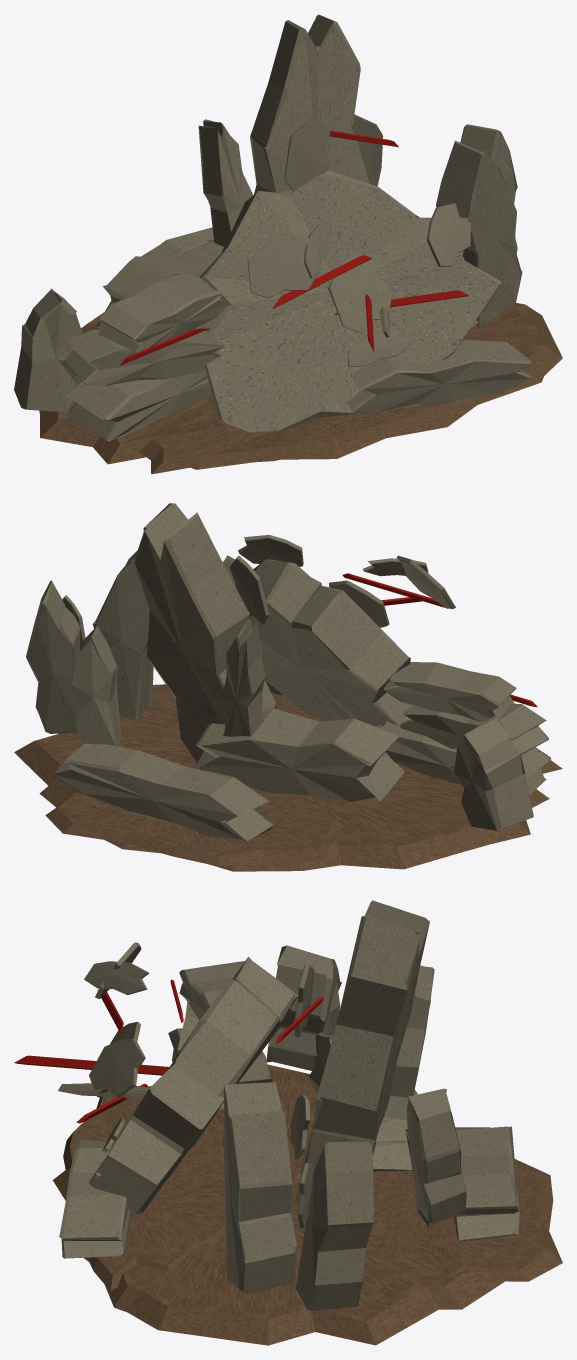
Rendered from SM_GIA_BloodAxeCairnTarget_A1_A01_LOD1.fbx.
3 views of the same model, one above another, from view 1: azimuth 30°, elevation 25°; view 2: azimuth 150°, elevation 25°; view 3: azimuth 270°, elevation 25° (orthographic). The views are drawn at different scales.
Parts seen in each view (by area): view 1: LOD1_Stone_DominantDiagonalFrontSlab, LOD1_Stone_TallRearOathSlab, LOD1_FrontBrokenMudLip, LOD1_IrregularMudAshTerrainContact, LOD1_Stone_FrontBrokenFootStone, LOD1_Stone_RightUprightSupportStone, LOD1_Stone_LeftBundledStackTopSlab, LOD1_Stone_LeftBundledStackLowSlab, LOD1_Stone_LeftBackBrokenShard, LOD1_Stone_LeftBundledStackMidSlab, LOD1_Stone_RearNeedleShardLeft, LOD1_Stone_RearLowCounterweight (+11 smaller); view 2: LOD1_IrregularMudAshTerrainContact, LOD1_Stone_TallRearOathSlab, LOD1_Stone_DominantDiagonalFrontSlab, LOD1_Stone_RearLowCounterweight, LOD1_Stone_RearGroundLockStone, LOD1_RearAshAndStoneScatter, LOD1_Stone_LeftBackBrokenShard, LOD1_Stone_RightRearSupportStone, LOD1_Stone_RightUprightSupportStone, LOD1_Stone_LeftBundledStackTopSlab, LOD1_Stone_RearNeedleShardRight, LOD1_Stone_RearNeedleShardLeft (+9 smaller); view 3: LOD1_IrregularMudAshTerrainContact, LOD1_Stone_DominantDiagonalFrontSlab, LOD1_Stone_TallRearOathSlab, LOD1_Stone_RightUprightSupportStone, LOD1_RearAshAndStoneScatter, LOD1_FrontBrokenMudLip, LOD1_Stone_RightRearSupportStone, LOD1_Stone_RearGroundLockStone, LOD1_Stone_RearNeedleShardRight, LOD1_Stone_FrontBrokenFootStone, LOD1_Stone_LeftBackBrokenShard, LOD1_Stone_RearNeedleShardLeft (+10 smaller).
Part boxes in pixels (x1,y1,x2,y2): LOD1_Stone_DominantDiagonalFrontSlab: [199, 170, 501, 432]; LOD1_Stone_TallRearOathSlab: [250, 14, 369, 194]; LOD1_FrontBrokenMudLip: [139, 382, 523, 474]; LOD1_IrregularMudAshTerrainContact: [39, 303, 562, 469]; LOD1_Stone_FrontBrokenFootStone: [347, 339, 531, 412]; LOD1_Stone_RightUprightSupportStone: [436, 140, 522, 328]; LOD1_Stone_LeftBundledStackTopSlab: [98, 271, 225, 355]; LOD1_Stone_LeftBundledStackLowSlab: [65, 331, 211, 441]; LOD1_Stone_LeftBackBrokenShard: [14, 288, 82, 412]; LOD1_Stone_LeftBundledStackMidSlab: [63, 326, 224, 386]; LOD1_Stone_RearNeedleShardLeft: [198, 119, 253, 246]; LOD1_Stone_RearLowCounterweight: [96, 240, 223, 328]; LOD1_IrregularMudAshTerrainContact: [14, 684, 549, 871]; LOD1_Stone_TallRearOathSlab: [130, 503, 276, 770]; LOD1_Stone_DominantDiagonalFrontSlab: [222, 555, 412, 726]; LOD1_Stone_RearLowCounterweight: [195, 708, 404, 801]; LOD1_Stone_RearGroundLockStone: [52, 743, 273, 841]; LOD1_RearAshAndStoneScatter: [45, 766, 339, 866]; LOD1_Stone_LeftBackBrokenShard: [454, 716, 533, 830]; LOD1_Stone_RightRearSupportStone: [26, 580, 80, 733]; LOD1_Stone_RightUprightSupportStone: [93, 550, 153, 719]; LOD1_Stone_LeftBundledStackTopSlab: [383, 662, 516, 722]; LOD1_Stone_RearNeedleShardRight: [72, 625, 121, 746]; LOD1_Stone_RearNeedleShardLeft: [221, 619, 265, 736]; LOD1_IrregularMudAshTerrainContact: [52, 1064, 504, 1345]; LOD1_Stone_DominantDiagonalFrontSlab: [89, 956, 298, 1214]; LOD1_Stone_TallRearOathSlab: [295, 900, 429, 1203]; LOD1_Stone_RightUprightSupportStone: [221, 1082, 296, 1294]; LOD1_RearAshAndStoneScatter: [364, 1159, 562, 1299]; LOD1_FrontBrokenMudLip: [63, 1086, 225, 1290]; LOD1_Stone_RightRearSupportStone: [296, 1141, 373, 1310]; LOD1_Stone_RearGroundLockStone: [452, 1126, 519, 1241]; LOD1_Stone_RearNeedleShardRight: [405, 1088, 466, 1226]; LOD1_Stone_FrontBrokenFootStone: [59, 1140, 130, 1258]; LOD1_Stone_LeftBackBrokenShard: [266, 945, 341, 1070]; LOD1_Stone_RearNeedleShardLeft: [384, 965, 434, 1119].
Size of the model in its own units: 368 by 213 by 302.
